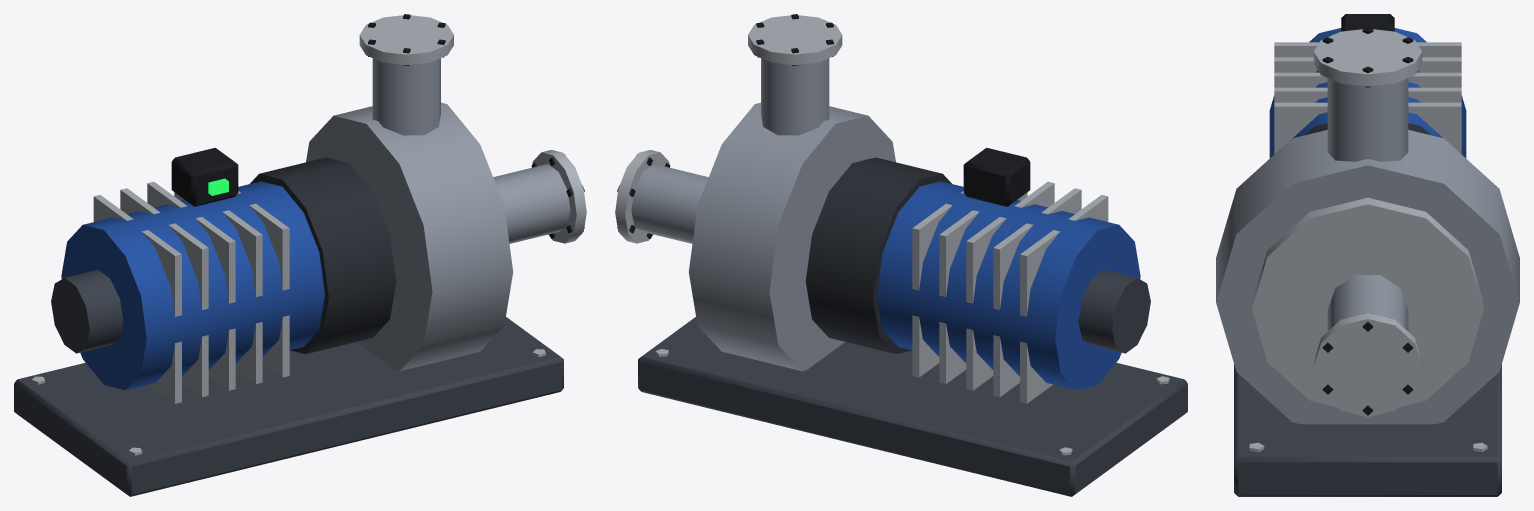
File: tank_circulation_pump.glb
The picture shows the model from 3 angles, left to right: view 1: azimuth 30°, elevation 25°; view 2: azimuth 150°, elevation 25°; view 3: azimuth 270°, elevation 25°; orthographic projection. The views are drawn at different scales.
Parts seen in each view (by area): view 1: tank_circulation_pump; view 2: tank_circulation_pump; view 3: tank_circulation_pump.
Boxes of the visible parts, box(x1,y1,x2,y2) form: tank_circulation_pump: box(14, 14, 586, 496); tank_circulation_pump: box(615, 14, 1187, 496); tank_circulation_pump: box(1216, 14, 1519, 496).
Bounding box in the file's own units: 1.47 × 0.971 × 0.68.
